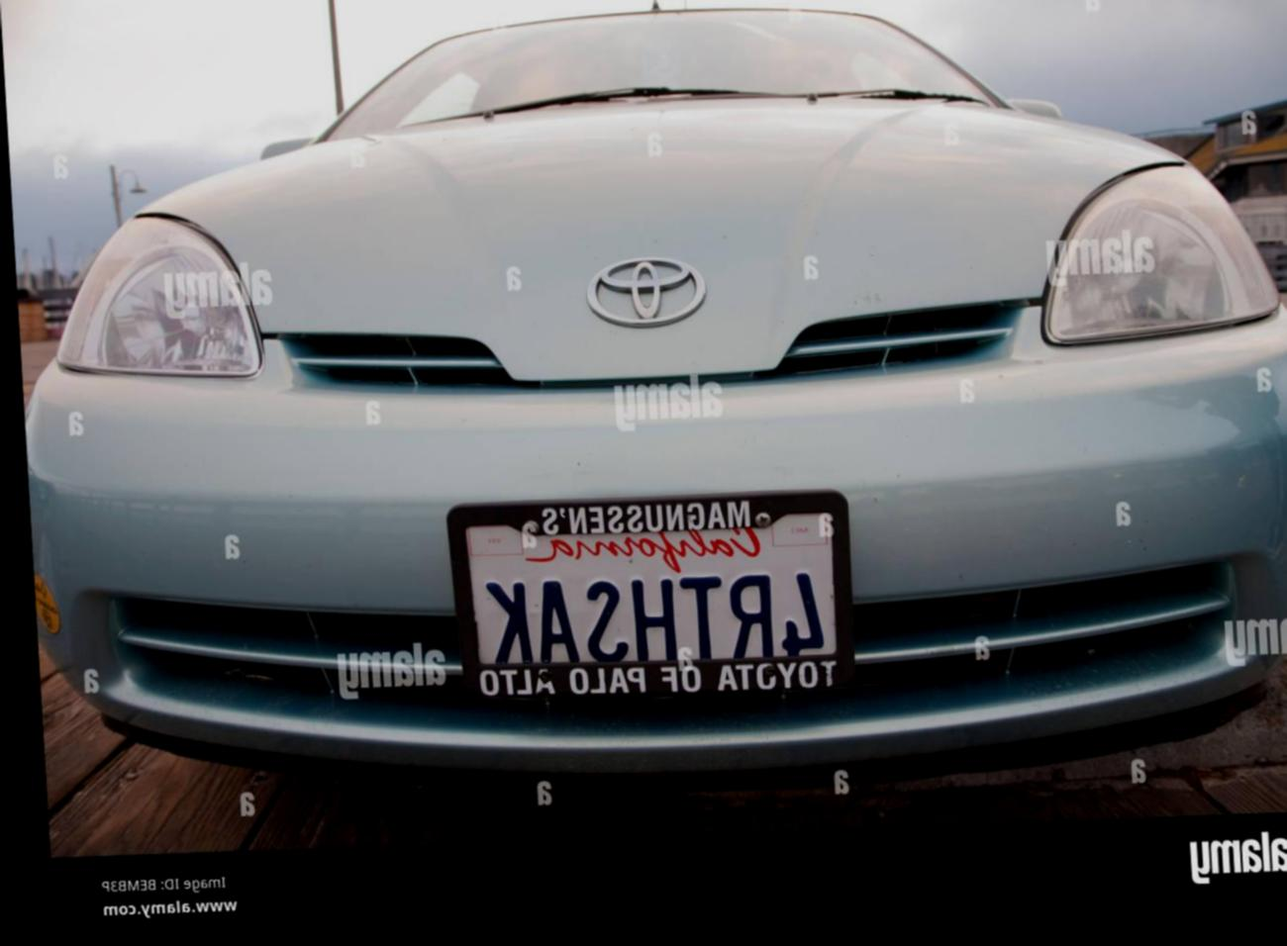License_Plate: (438, 474, 870, 719)
